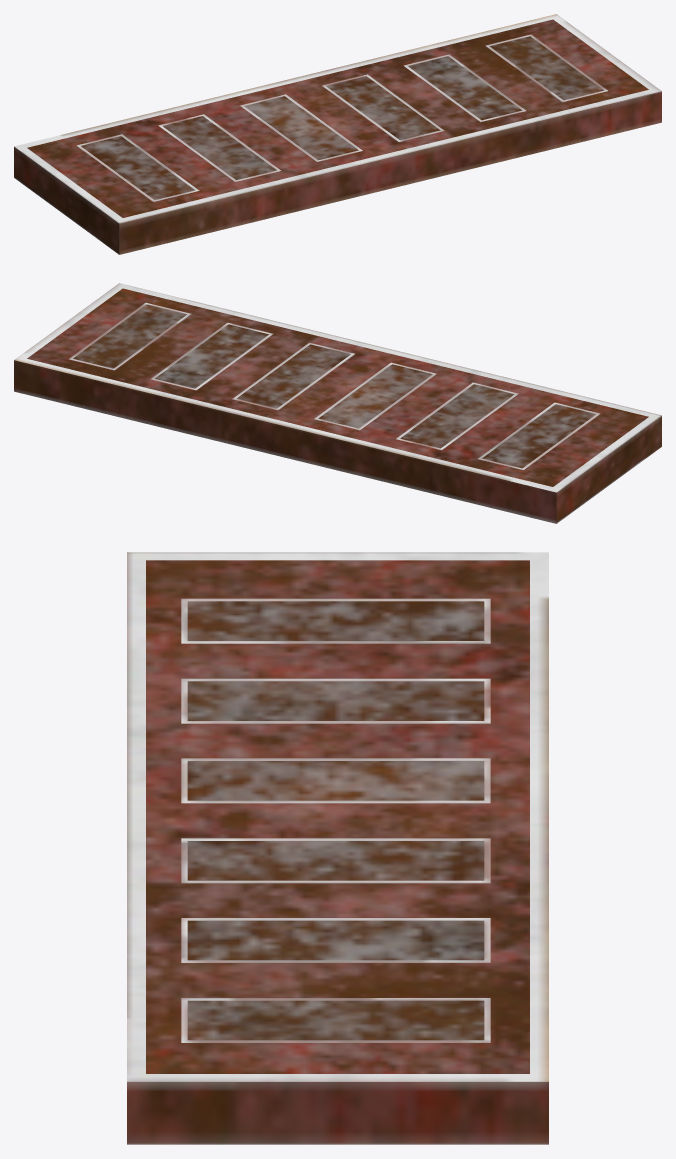
Rendered from bulletcontainer.fbx.
3 renders of one model, top to bottom at view 1: azimuth 30°, elevation 25°; view 2: azimuth 150°, elevation 25°; view 3: azimuth 270°, elevation 25°, orthographic. The views are drawn at different scales.
Parts seen in each view (by area): view 1: Box005, Rectangle011; view 2: Box005, Rectangle011; view 3: Box005, Rectangle011.
Part boxes in pixels (x1,y1,x2,y2): Box005: (27, 19, 648, 217); Rectangle011: (14, 14, 661, 254); Box005: (27, 288, 648, 486); Rectangle011: (14, 283, 661, 523); Box005: (146, 560, 529, 1073); Rectangle011: (127, 552, 548, 1144).
Bounding box in the file's own units: 54.26 × 18.26 × 3.
